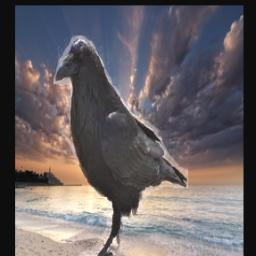Crow: (54, 35, 189, 256)
